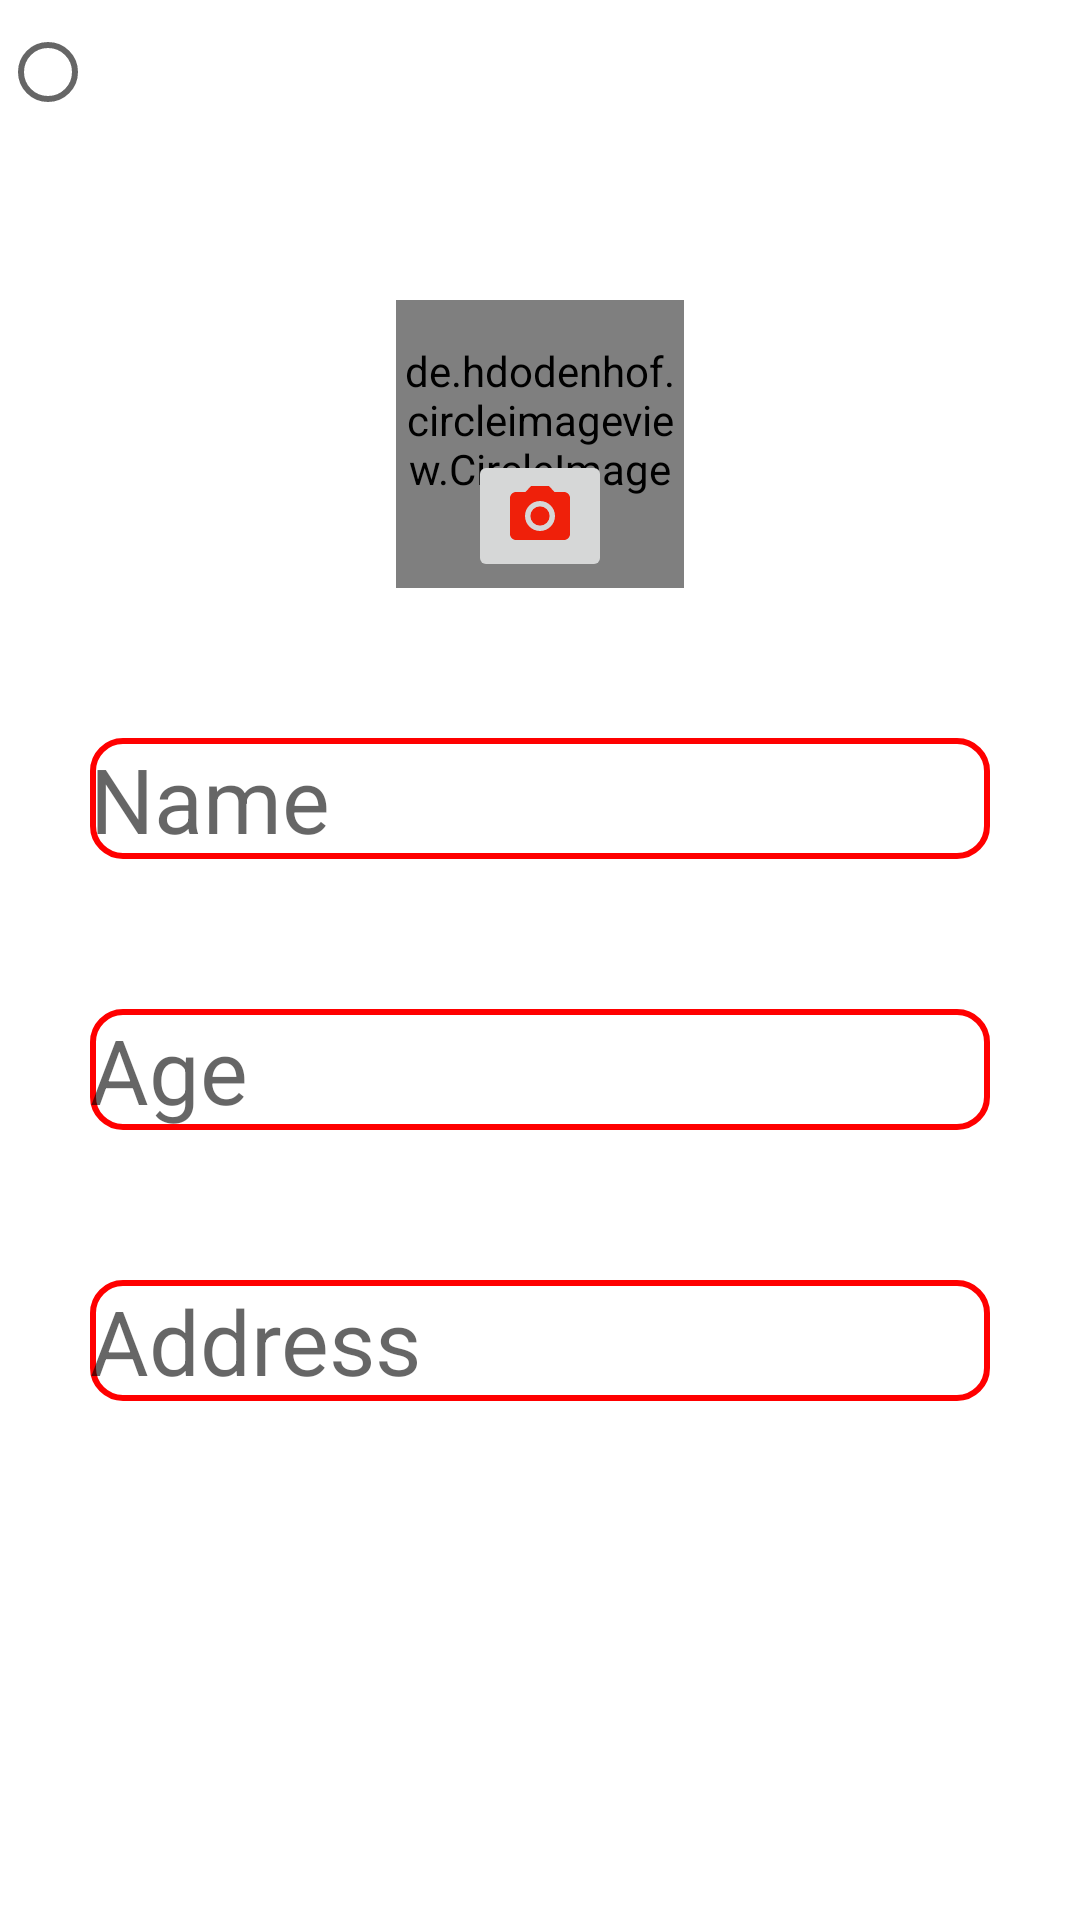

Named icons in this screenshot (1080×1920) and their centers, [x,y]:
photo camera: [539,508]
